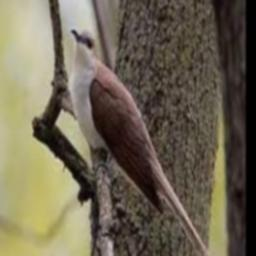Cuckoo: (71, 27, 222, 256)
